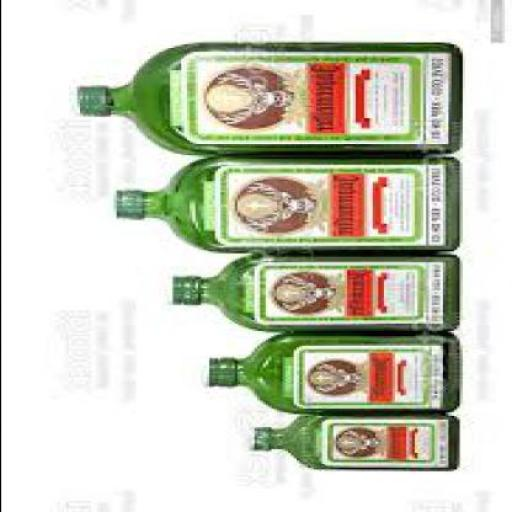glass: (104, 43, 461, 159), (141, 157, 458, 253), (200, 253, 458, 329), (234, 331, 458, 412), (264, 412, 458, 468)
metal: (197, 352, 234, 384), (106, 186, 141, 218), (163, 274, 200, 303), (65, 86, 104, 112), (239, 424, 273, 450)
